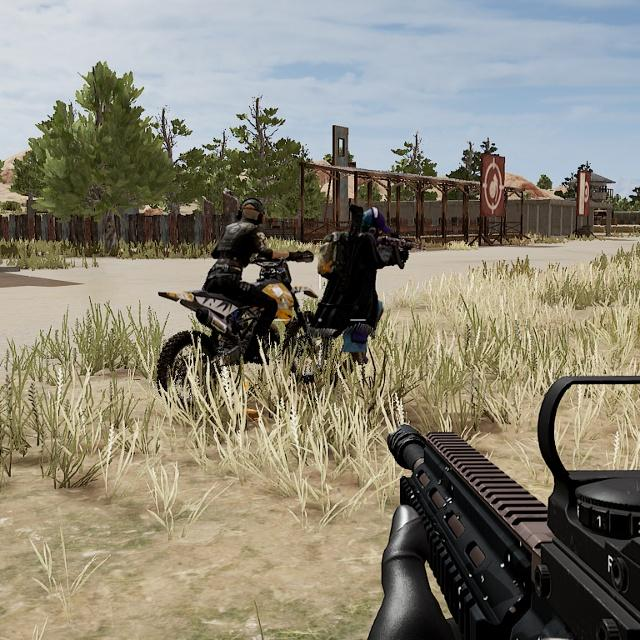head: (230, 191, 274, 236), (351, 203, 392, 248)
people: (196, 180, 298, 376), (312, 200, 415, 382)
